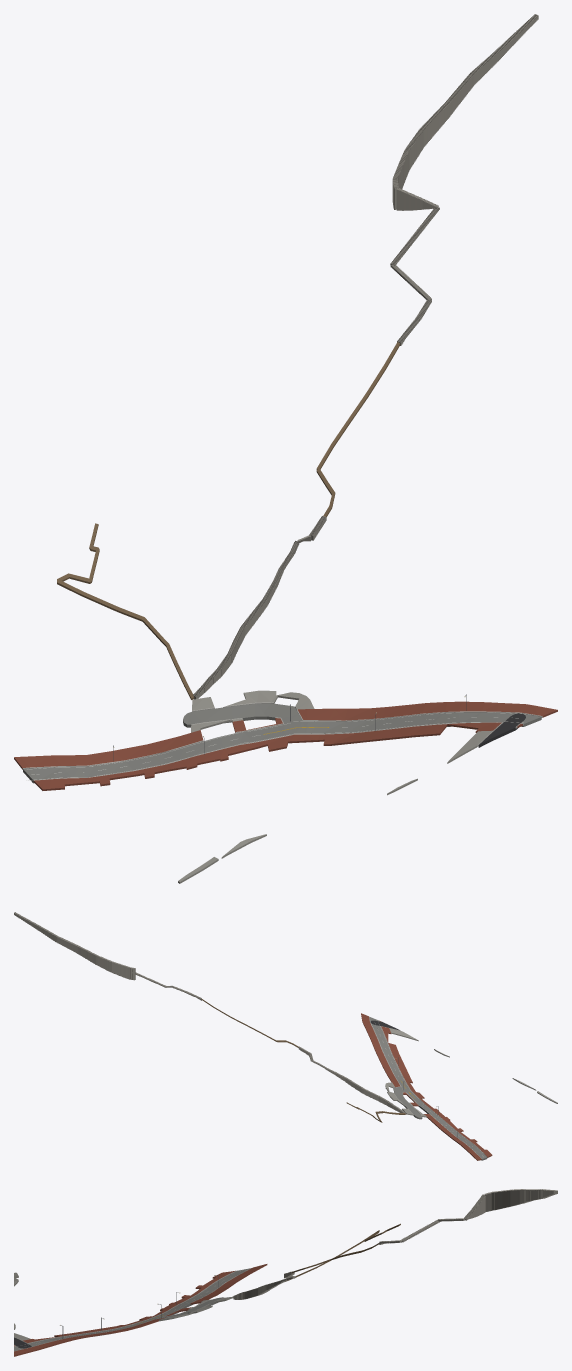
Rendered from 17-109429-59478.2916fbcc.glb.
3 renders of one model, top to bottom at view 1: azimuth 30°, elevation 25°; view 2: azimuth 150°, elevation 25°; view 3: azimuth 270°, elevation 25°, orthographic. The views are drawn at different scales.
Bounding box in the file's own units: 296 × 179 × 248.
